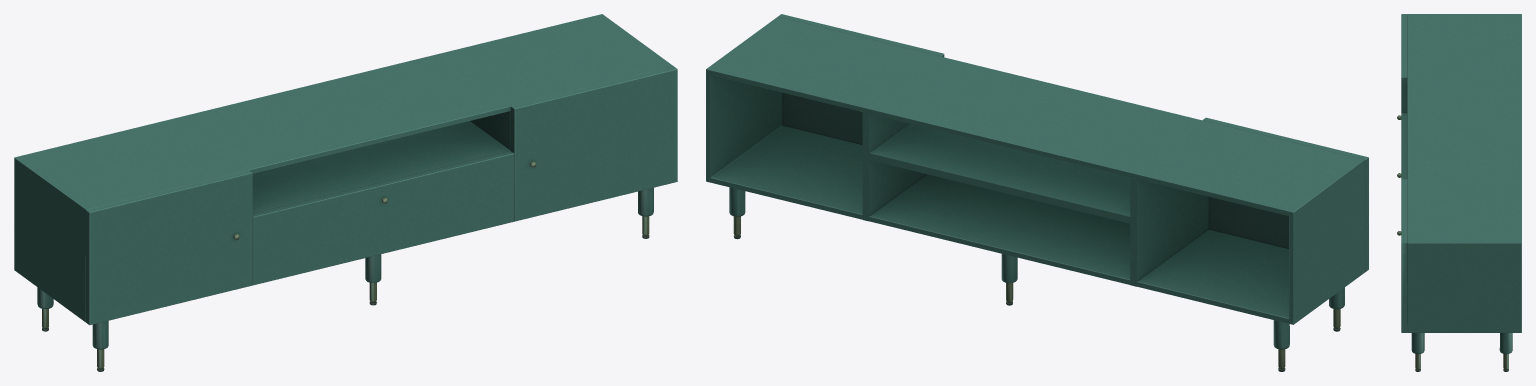
File: media_unit_floor_based_media_unit_56348cf0-4a49-574a-acb1-301a2d9e69e6.glb
3 renders of one model, left to right at view 1: azimuth 30°, elevation 25°; view 2: azimuth 150°, elevation 25°; view 3: azimuth 270°, elevation 25°, orthographic. The views are drawn at different scales.
Visible parts, largest first — view 1: raw_model.obj; view 2: raw_model.obj; view 3: raw_model.obj.
Boxes of the visible parts, <box> form: raw_model.obj: <box>14,14,677,371</box>; raw_model.obj: <box>706,14,1368,371</box>; raw_model.obj: <box>1397,14,1521,371</box>.
Size of the model in its own units: 1.8 by 0.5 by 0.4143.
Materials: 1 (1 with a texture image).
